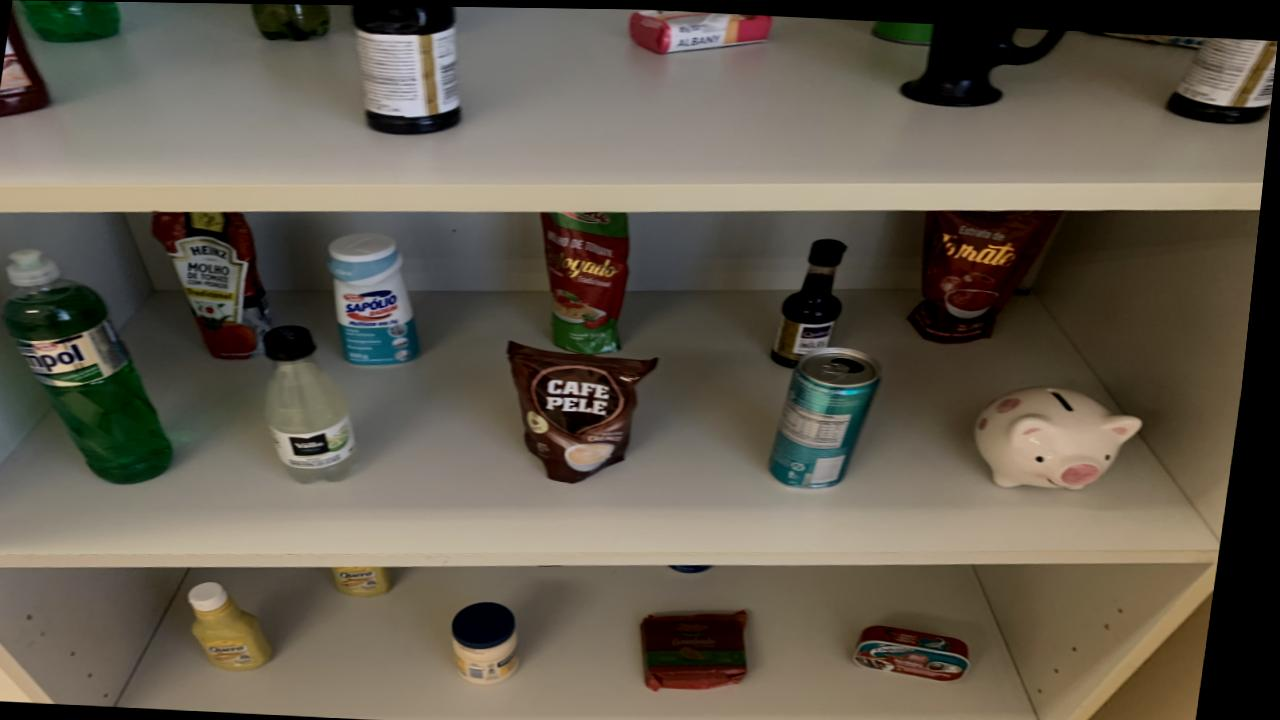Cleaner-Cleanup_Items: (332, 232, 427, 365)
Coffee-Pantry_Items: (515, 339, 664, 481)
Detergent-Cleanup_Items: (10, 250, 183, 483), (22, 0, 121, 43)
English_Sauce-Pantry_Items: (352, 4, 463, 133), (1170, 34, 1278, 120), (780, 236, 851, 365)
Guarana-Drinks: (250, 3, 331, 40)
Guava-Snacks: (653, 608, 762, 688)
Ketchup-Pantry_Items: (0, 10, 51, 117)
Mayonnaise-Pantry_Items: (465, 600, 534, 683)
Mustard-Pantry_Items: (200, 581, 287, 670), (344, 565, 405, 596)
Pig_Safe-Miscellaneous: (984, 384, 1151, 486)
Pringles-Snacks: (873, 18, 934, 43)
Soap-Cleanup_Items: (630, 7, 772, 52)
Soda-Drinks: (272, 324, 366, 482)
Tea-Drinks: (779, 344, 889, 485)
Tomato_Sauce-Pantry_Items: (915, 207, 1065, 340), (156, 211, 278, 358), (545, 210, 635, 352)
Tuna_Can-Pantry_Items: (867, 623, 985, 678)
